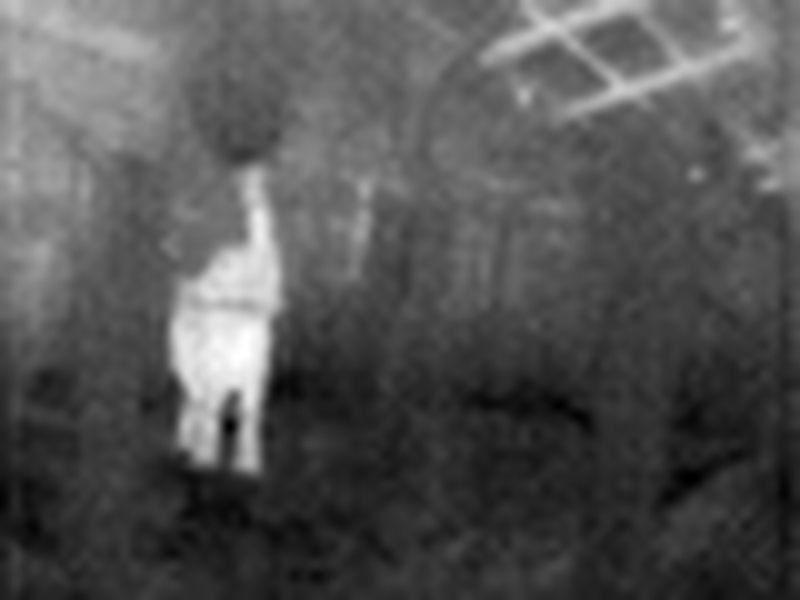elephant: (132, 174, 328, 490)
